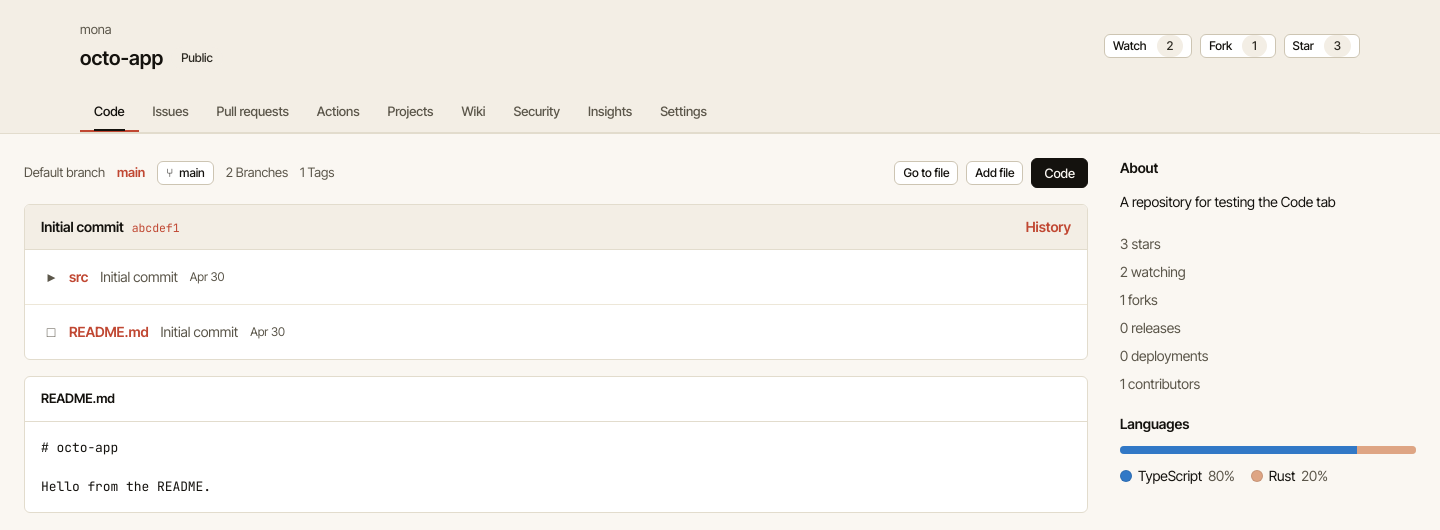
it: RepositoryCodeOverview › optimistically toggles the watch control through a same-origin route
This screenshot has width=1440, height=530.
Click the button "Watch 2" at [1148, 46], box [1104,34,1192,58]
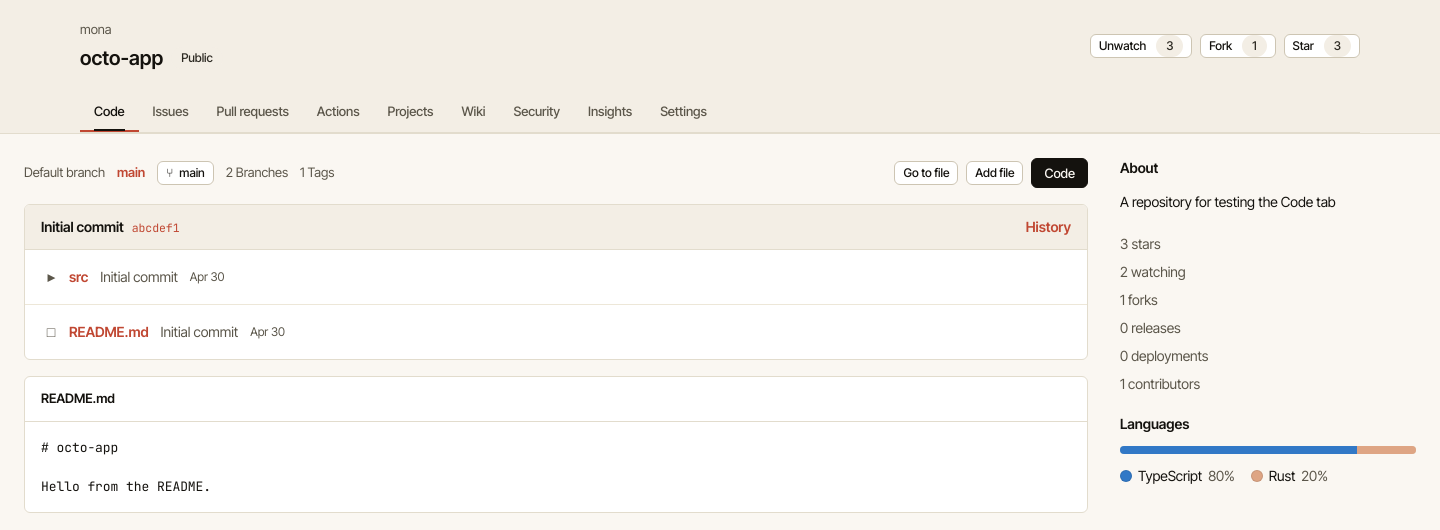
Expected: the button "Unwatch 3" is shown, [1090,34,1192,58]
